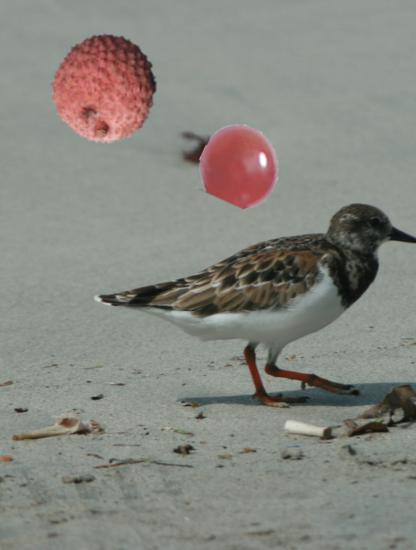Lychee: (47, 33, 161, 147)
Redcurrant: (200, 126, 280, 206)
